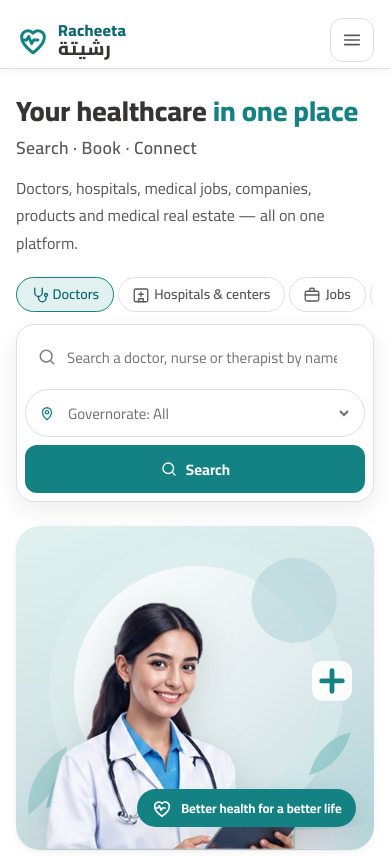
Scenario: Header notifications entry › works in the mobile menu too
This screenshot has width=390, height=856.
Click the button named "open menu".
click(352, 40)  # box [330,18,374,62]
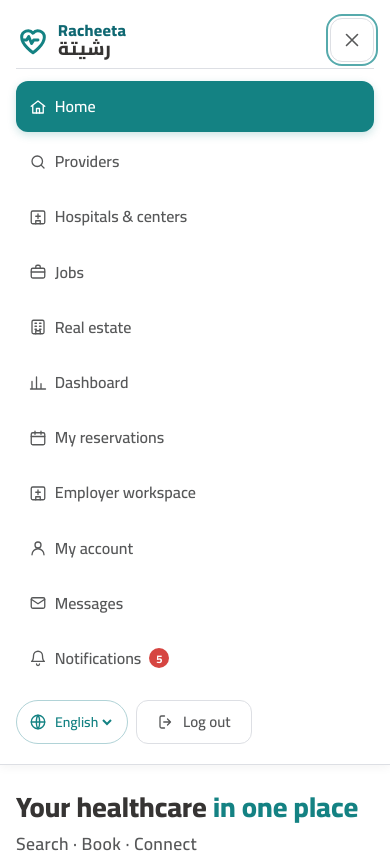
expect the number of links "notifications" is 2: met
